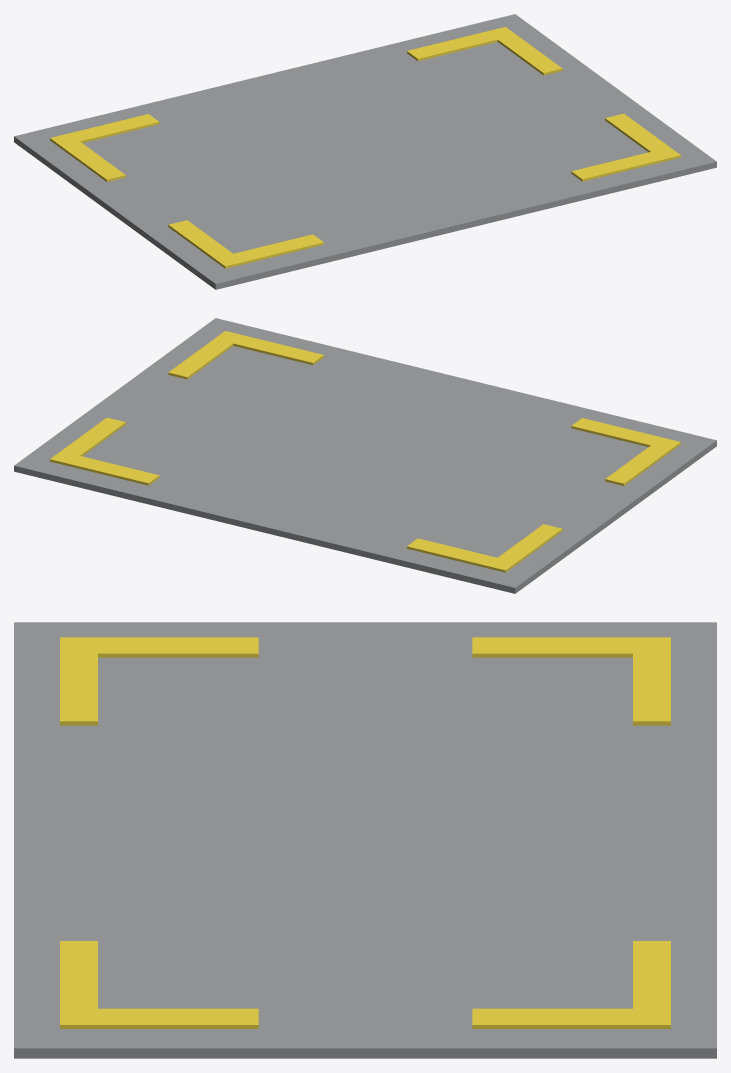
The model's file is BufferPosition.fbx.
3 renders of one model, top to bottom at view 1: azimuth 30°, elevation 25°; view 2: azimuth 150°, elevation 25°; view 3: azimuth 270°, elevation 25°, orthographic. The views are drawn at different scales.
Visible parts, largest first — view 1: BufferPosition; view 2: BufferPosition; view 3: BufferPosition.
Part boxes in pixels (x1=…): BufferPosition: x1=14, y1=14, x2=716, y2=289; BufferPosition: x1=14, y1=318, x2=716, y2=593; BufferPosition: x1=14, y1=622, x2=716, y2=1058.
Size of the model in its own units: 1.32 by 0.021 by 0.92.
